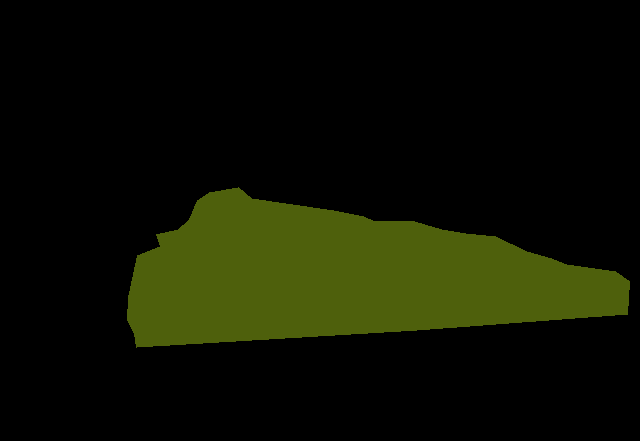Train: (127, 187, 629, 348)
